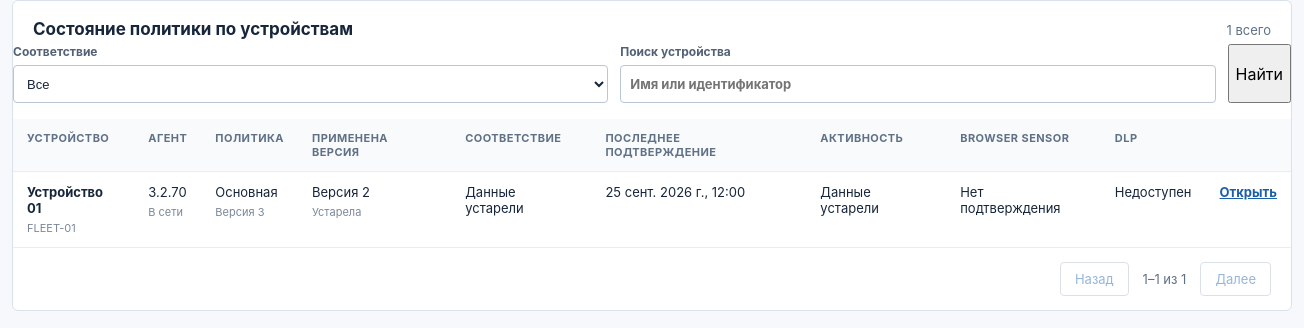
Test: renders safe fleet facts and filters before pagination
Expected: the text "Устройство 01" is shown, [27, 184, 103, 216]
Expected: the text "Нет подтверждения" is shown, [946, 172, 1101, 248]
Select "Частично соответствует" in the dropdown labelled "Соответствие" at x=311, y=84, box [13, 65, 608, 103]
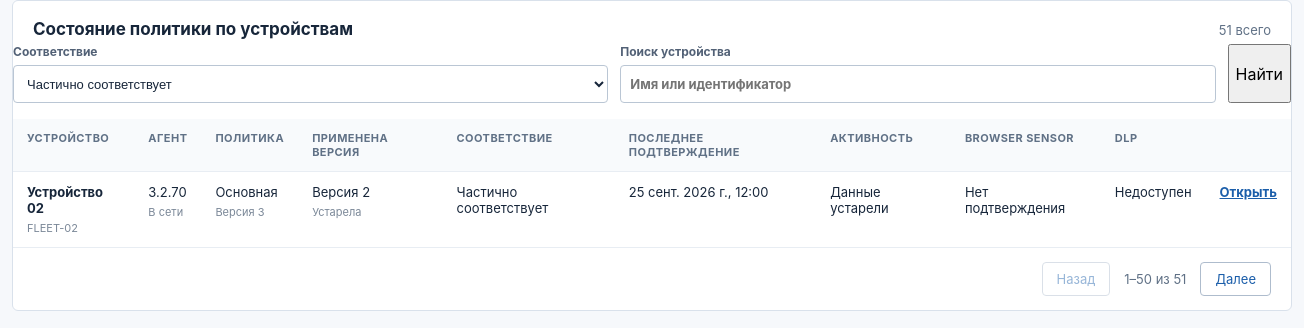
Result: the text "Устройство 02" is shown at [27, 184, 103, 216]
Click the button "Далее" at x=1236, y=279, box [1200, 262, 1271, 296]
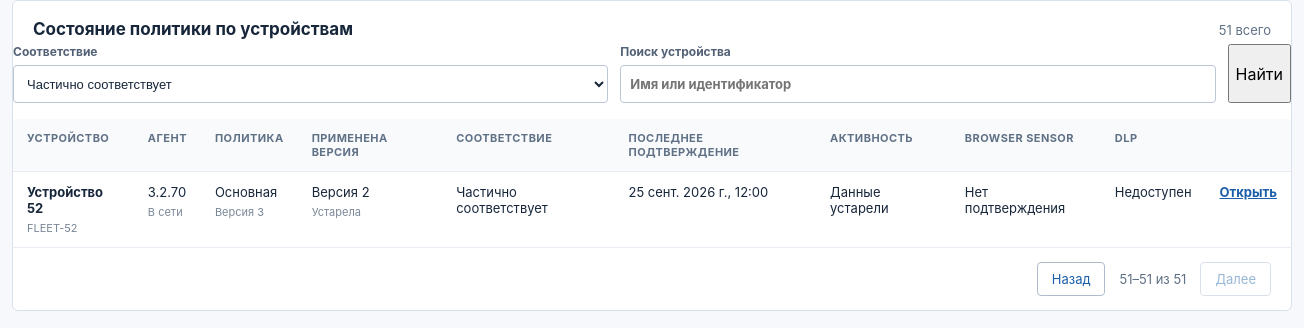
Result: the text "Устройство 52" is shown at [27, 184, 103, 216]
